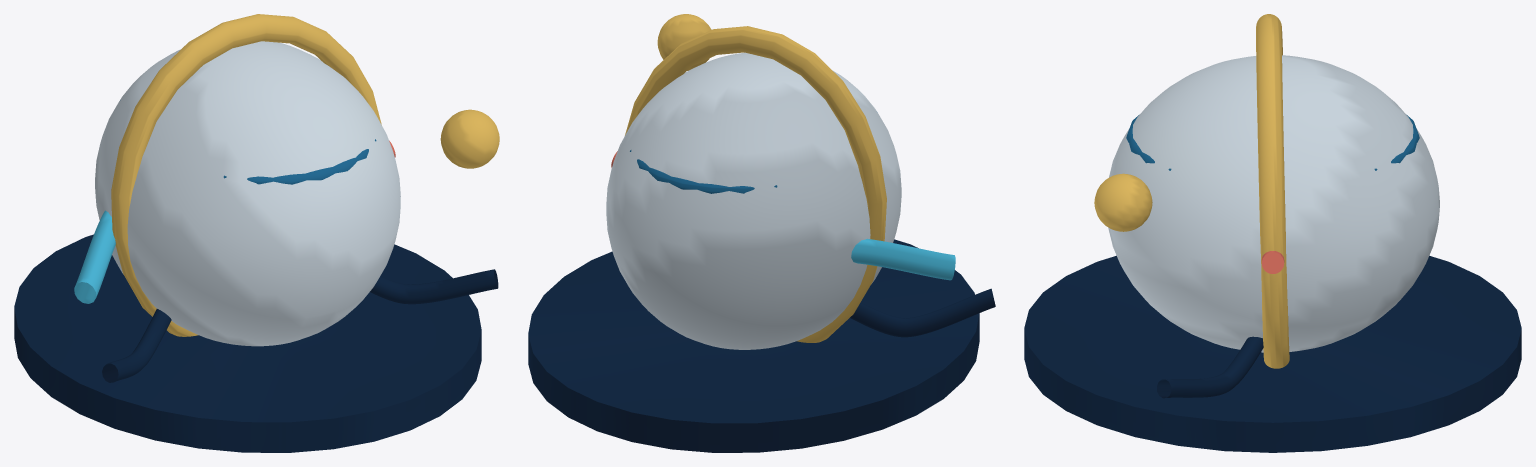
Rendered from 1213_细胞图鉴_遗传物质.glb.
3 views of the same model, side by side, from view 1: azimuth 30°, elevation 25°; view 2: azimuth 150°, elevation 25°; view 3: azimuth 270°, elevation 25° (orthographic). The views are drawn at different scales.
Visible parts, largest first — view 1: card_1213; view 2: card_1213; view 3: card_1213.
Part boxes in pixels (bbox=[...]): card_1213: bbox=[14, 14, 499, 452]; card_1213: bbox=[528, 14, 995, 452]; card_1213: bbox=[1024, 14, 1521, 452].
Size of the model in its own units: 1.24 by 1 by 1.38.
